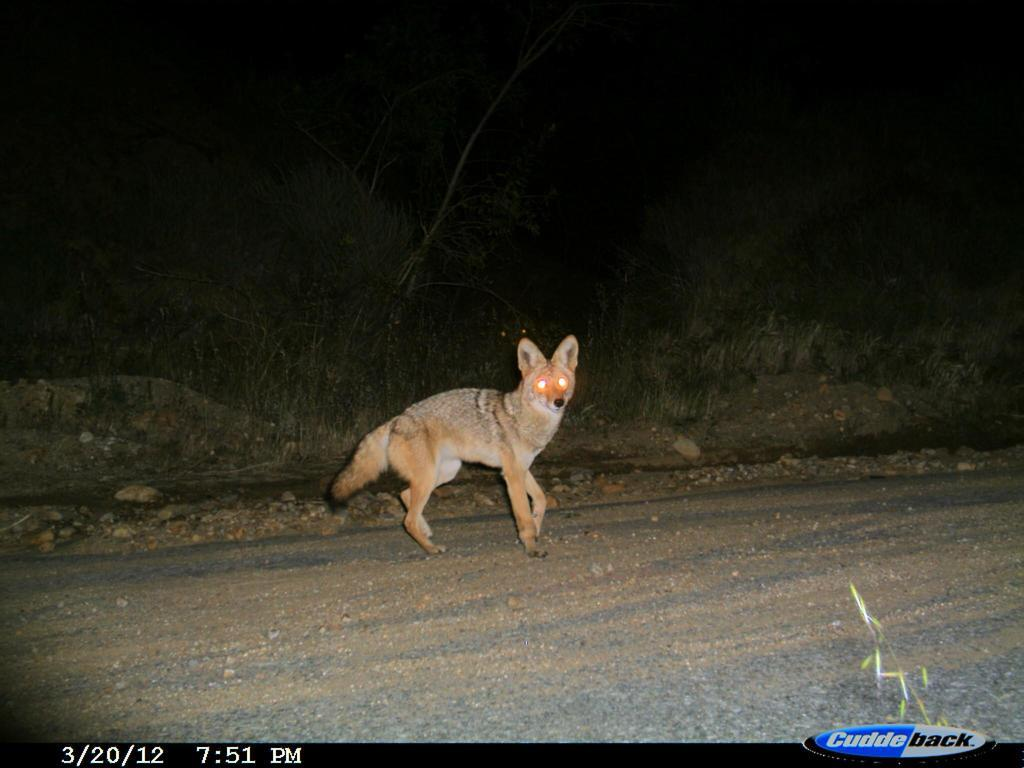coyote: (321, 327, 587, 560)
